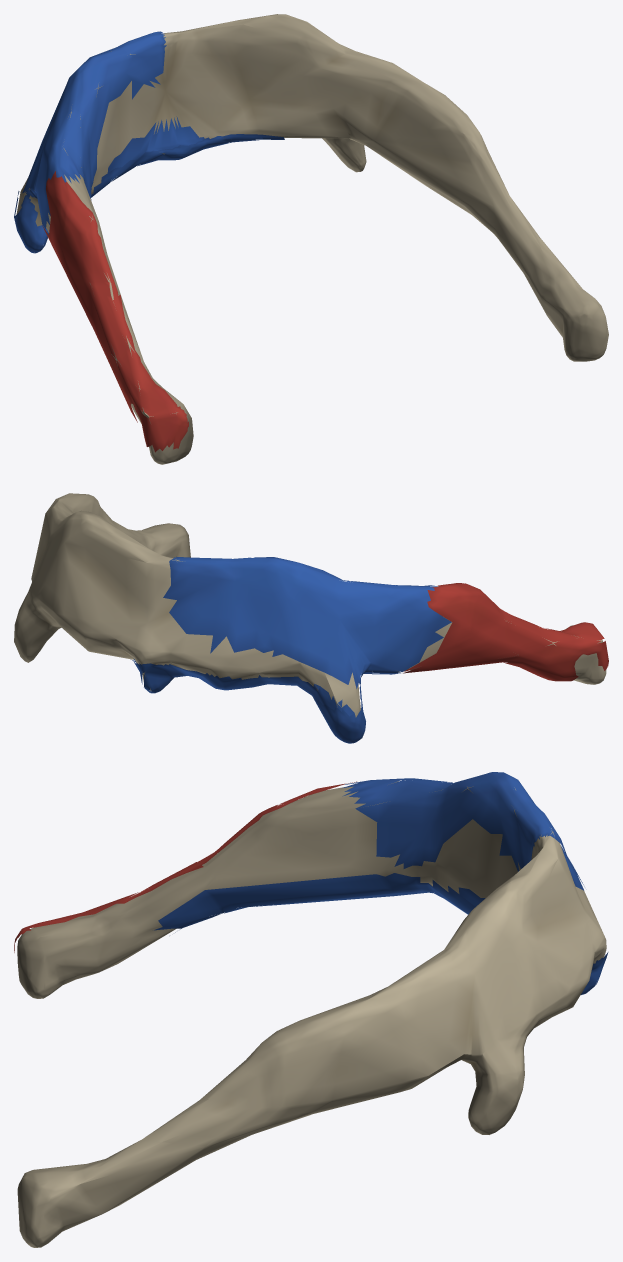
File: os-hyoideum.glb
3 views of the same model, one above another, from view 1: azimuth 30°, elevation 25°; view 2: azimuth 150°, elevation 25°; view 3: azimuth 270°, elevation 25° (orthographic). The views are drawn at different scales.
Parts seen in each view (by area): view 1: FJ3201, origo__cornu-majus__m-hyoglossus, insertio__corpus__FJ1596, insertio__cornu-minus__m-stylohyoideus, insertio__corpus__FJ1583; view 2: insertio__corpus__FJ1596, os-hyoideum__corpus, FJ3201, origo__cornu-majus__m-hyoglossus, insertio__corpus__FJ1583, insertio__cornu-minus__m-stylohyoideus; view 3: FJ3201, insertio__corpus__FJ1596, os-hyoideum__corpus, insertio__cornu-minus__m-stylohyoideus, origo__cornu-majus__m-hyoglossus, os-hyoideum__cornu-majus.
Part boxes in pixels (<box>): FJ3201: <box>29,14,608,464</box>; origo__cornu-majus__m-hyoglossus: <box>42,171,188,452</box>; insertio__corpus__FJ1596: <box>22,31,166,229</box>; insertio__cornu-minus__m-stylohyoideus: <box>14,134,284,253</box>; insertio__corpus__FJ1583: <box>15,116,204,210</box>; insertio__corpus__FJ1596: <box>163,556,451,688</box>; os-hyoideum__corpus: <box>17,570,448,715</box>; FJ3201: <box>14,493,606,684</box>; origo__cornu-majus__m-hyoglossus: <box>403,583,608,681</box>; insertio__corpus__FJ1583: <box>131,658,354,716</box>; insertio__cornu-minus__m-stylohyoideus: <box>312,673,400,743</box>; FJ3201: <box>17,781,577,1247</box>; insertio__corpus__FJ1596: <box>342,772,584,890</box>; os-hyoideum__corpus: <box>491,886,606,1077</box>; insertio__cornu-minus__m-stylohyoideus: <box>154,873,475,932</box>; origo__cornu-majus__m-hyoglossus: <box>14,781,356,952</box>; os-hyoideum__cornu-majus: <box>17,787,344,953</box>.
Size of the model in its own units: 37.99 by 18.64 by 34.9.
